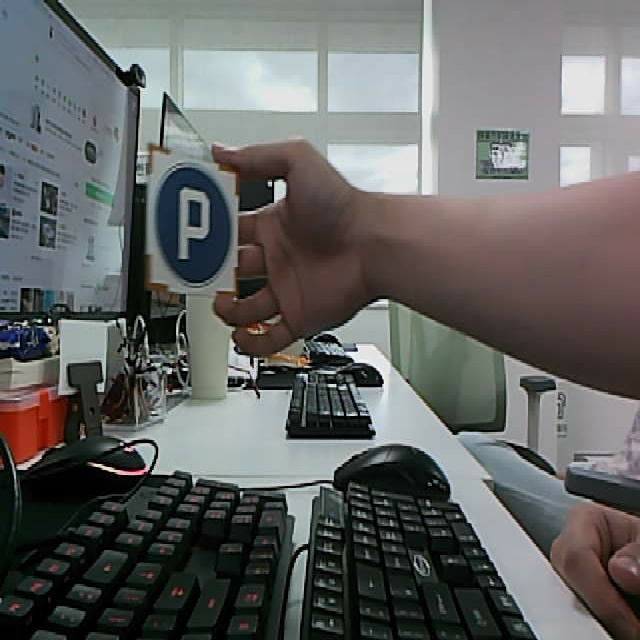parking: (141, 143, 238, 298)
